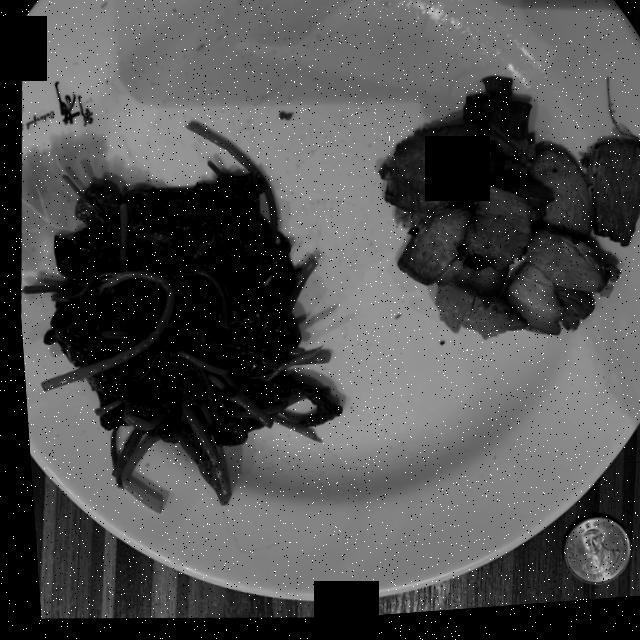coin: (555, 524, 622, 592)
grilled pork: (377, 83, 640, 344)
sweet potato leaves: (19, 124, 335, 513)
